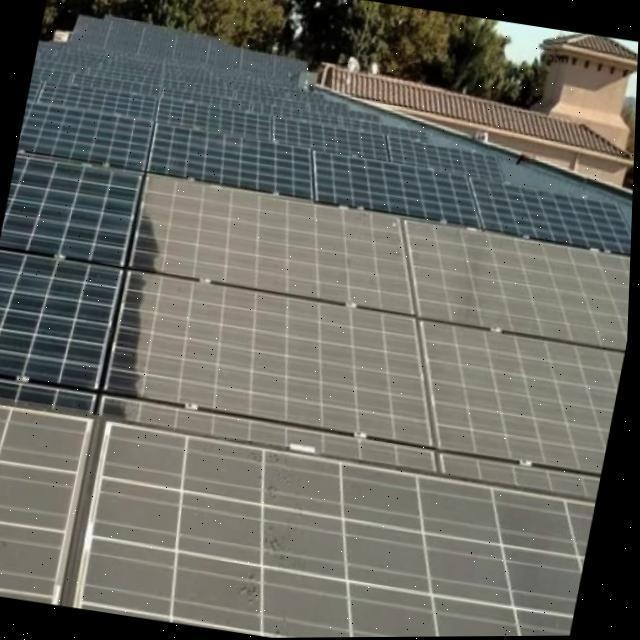Anomaly Solar Panel: (71, 418, 600, 638), (99, 271, 442, 471), (129, 174, 419, 317), (422, 322, 628, 500), (406, 219, 632, 353), (0, 401, 100, 606)
Normal Solar Panel: (0, 250, 126, 411), (0, 151, 146, 267)
Surface Contaminant: (70, 422, 602, 640), (104, 266, 467, 453), (128, 168, 440, 319), (397, 312, 630, 477), (388, 222, 634, 354), (0, 399, 100, 606)
